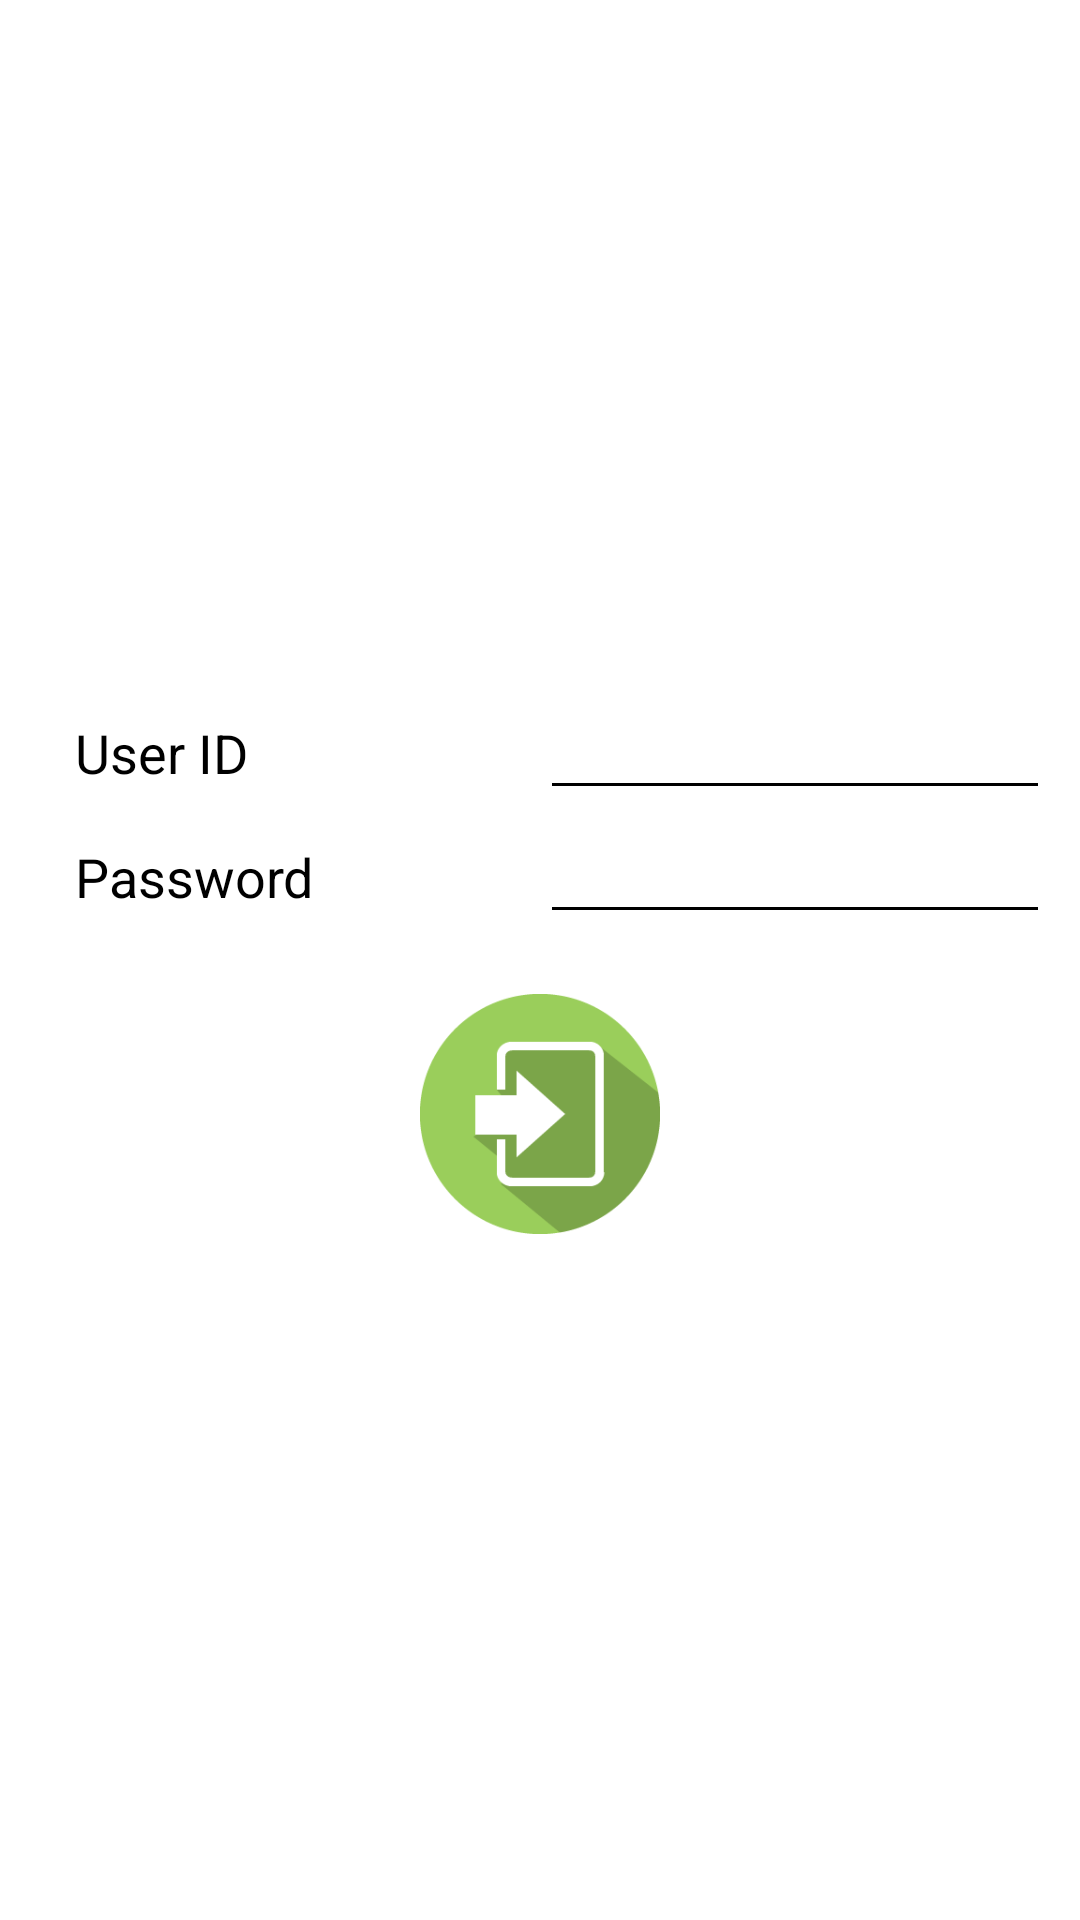

Icon bounding boxes for this 1080 × 1920 phone screenshot, format (x1,y1,x2,y2):
login page: (420,994,660,1234)
